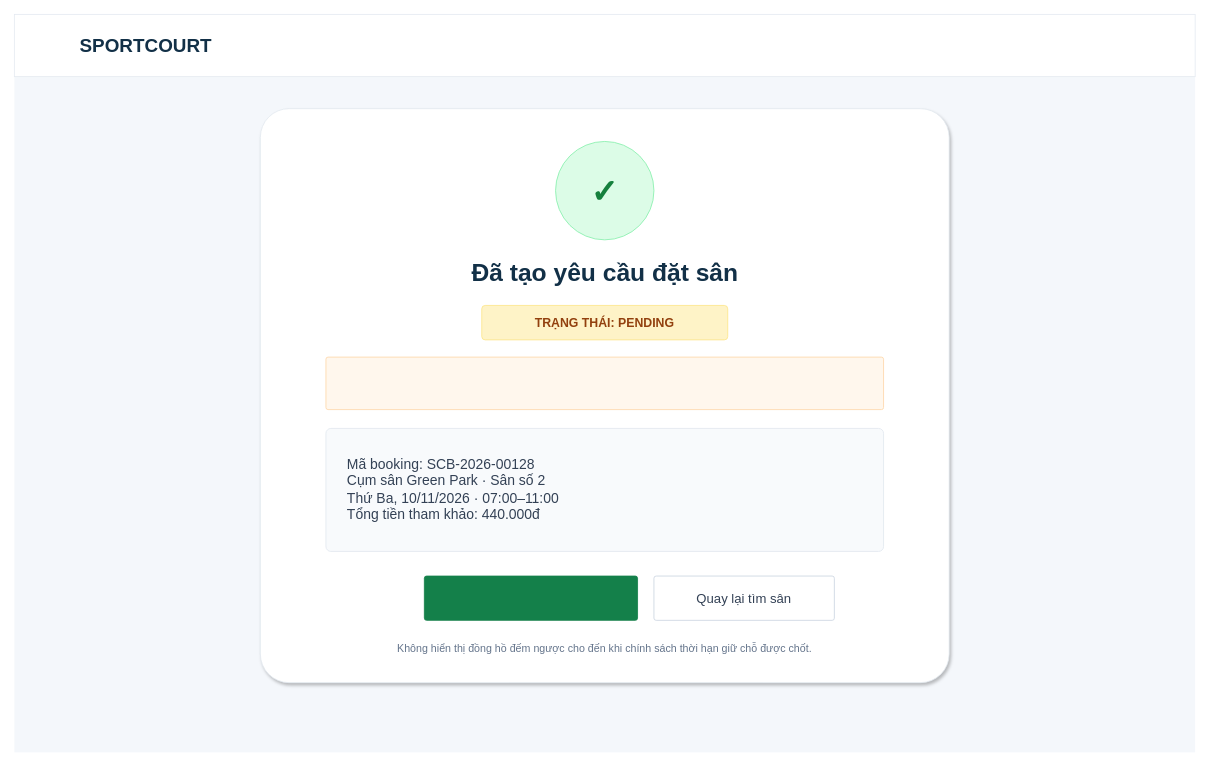
This 1210x767 diagram has some shape labels left out. The centre of each missing label's shape, as x and y in pixels:
Booking chưa được xác nhận và chưa thanh toán. Đây là trạng thái cuối của MVP.: point (604, 383)
Xem lịch đặt của tôi: point (531, 597)
